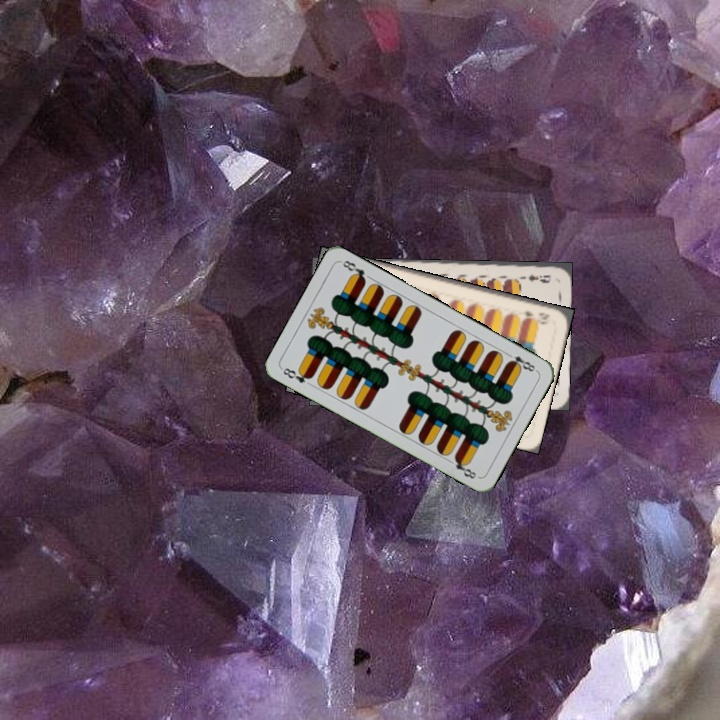E10: (515, 307, 552, 326)
E8: (502, 349, 539, 374), (279, 363, 315, 386)
E9: (515, 270, 553, 285)
